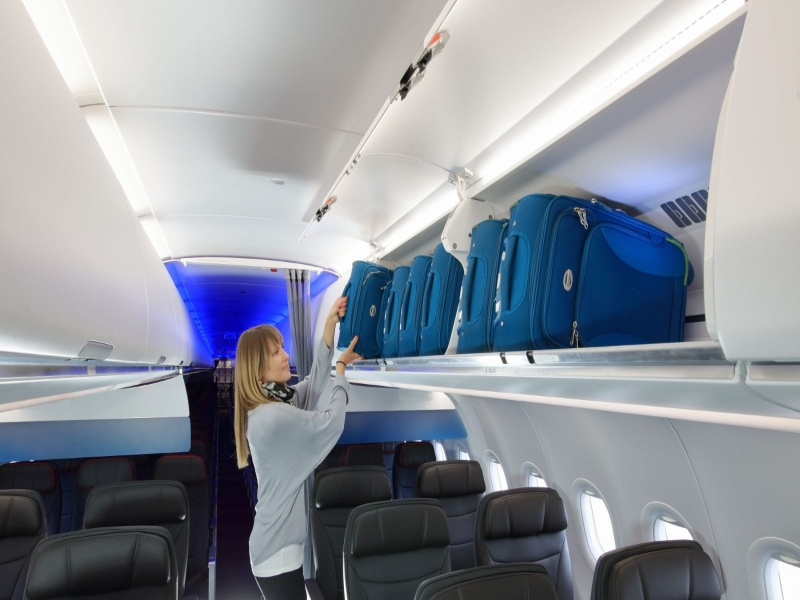close_bin: (1, 3, 150, 374), (145, 243, 176, 372), (173, 284, 191, 366)
open_bin: (429, 4, 750, 366), (298, 52, 425, 380)
